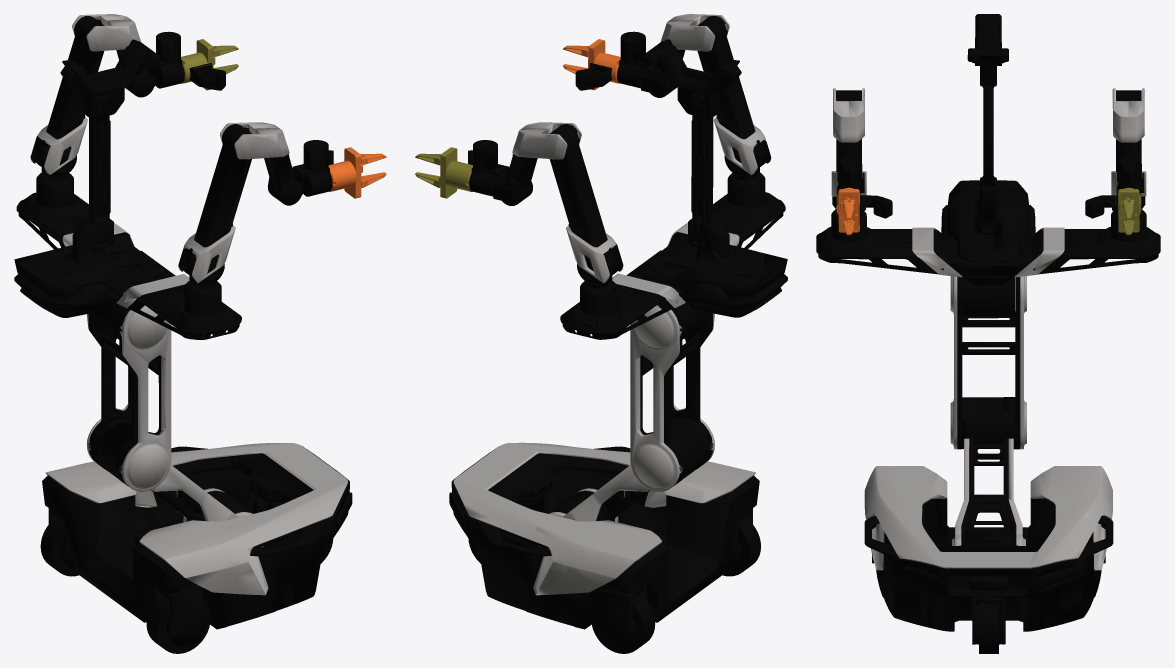
File: r1lite-gripper.glb
3 views of the same model, side by side, from view 1: azimuth 30°, elevation 25°; view 2: azimuth 150°, elevation 25°; view 3: azimuth 270°, elevation 25° (orthographic). The views are drawn at different scales.
Visible parts, largest first — view 1: R1Lite-Gripper.base_link.0.visual0.web, R1Lite-Gripper.torso_link3.0.visual0.web, R1Lite-Gripper.torso_link2.0.visual0.web, R1Lite-Gripper.right_arm_link2.0.visual0.web, R1Lite-Gripper.left_arm_link2.0.visual0.web, R1Lite-Gripper.torso_link1.0.visual0.web, R1Lite-Gripper.right_arm_link3.0.visual0.web, R1Lite-Gripper.left_arm_link3.0.visual0.web, R1Lite-Gripper.steer_motor_link3.0.visual0.web, R1Lite-Gripper.wheel_motor_link3.0.visual0.web, R1Lite-Gripper.right_gripper_link.0.visual0.web, R1Lite-Gripper.right_arm_base_link.0.visual0.web (+8 smaller); view 2: R1Lite-Gripper.base_link.0.visual0.web, R1Lite-Gripper.torso_link3.0.visual0.web, R1Lite-Gripper.torso_link2.0.visual0.web, R1Lite-Gripper.left_arm_link2.0.visual0.web, R1Lite-Gripper.right_arm_link2.0.visual0.web, R1Lite-Gripper.torso_link1.0.visual0.web, R1Lite-Gripper.left_arm_link3.0.visual0.web, R1Lite-Gripper.right_arm_link3.0.visual0.web, R1Lite-Gripper.steer_motor_link2.0.visual0.web, R1Lite-Gripper.wheel_motor_link2.0.visual0.web, R1Lite-Gripper.left_arm_link4.0.visual0.web, R1Lite-Gripper.right_arm_link4.0.visual0.web (+8 smaller); view 3: R1Lite-Gripper.base_link.0.visual0.web, R1Lite-Gripper.torso_link3.0.visual0.web, R1Lite-Gripper.torso_link1.0.visual0.web, R1Lite-Gripper.torso_link2.0.visual0.web, R1Lite-Gripper.left_arm_link3.0.visual0.web, R1Lite-Gripper.right_arm_link3.0.visual0.web, R1Lite-Gripper.wheel_motor_link1.0.visual0.web, R1Lite-Gripper.left_arm_link4.0.visual0.web, R1Lite-Gripper.right_arm_link4.0.visual0.web, R1Lite-Gripper.steer_motor_link1.0.visual0.web, R1Lite-Gripper.right_arm_link2.0.visual0.web, R1Lite-Gripper.left_arm_link2.0.visual0.web (+6 smaller).
Boxes of the visible parts, x1,y1,x2,y2 form: R1Lite-Gripper.base_link.0.visual0.web: (42, 443, 352, 629); R1Lite-Gripper.torso_link3.0.visual0.web: (14, 39, 241, 339); R1Lite-Gripper.torso_link2.0.visual0.web: (87, 305, 171, 491); R1Lite-Gripper.right_arm_link2.0.visual0.web: (178, 124, 251, 284); R1Lite-Gripper.left_arm_link2.0.visual0.web: (30, 16, 104, 176); R1Lite-Gripper.torso_link1.0.visual0.web: (91, 417, 263, 547); R1Lite-Gripper.right_arm_link3.0.visual0.web: (220, 122, 302, 205); R1Lite-Gripper.left_arm_link3.0.visual0.web: (72, 14, 154, 97); R1Lite-Gripper.steer_motor_link3.0.visual0.web: (154, 586, 205, 647); R1Lite-Gripper.wheel_motor_link3.0.visual0.web: (146, 594, 210, 653); R1Lite-Gripper.right_gripper_link.0.visual0.web: (328, 147, 361, 198); R1Lite-Gripper.right_arm_base_link.0.visual0.web: (180, 280, 222, 316); R1Lite-Gripper.base_link.0.visual0.web: (449, 442, 759, 629); R1Lite-Gripper.torso_link3.0.visual0.web: (560, 39, 787, 339); R1Lite-Gripper.torso_link2.0.visual0.web: (630, 305, 714, 491); R1Lite-Gripper.left_arm_link2.0.visual0.web: (549, 124, 623, 284); R1Lite-Gripper.right_arm_link2.0.visual0.web: (697, 15, 771, 176); R1Lite-Gripper.torso_link1.0.visual0.web: (538, 417, 710, 547); R1Lite-Gripper.left_arm_link3.0.visual0.web: (500, 122, 581, 205); R1Lite-Gripper.right_arm_link3.0.visual0.web: (648, 14, 729, 97); R1Lite-Gripper.steer_motor_link2.0.visual0.web: (596, 586, 647, 647); R1Lite-Gripper.wheel_motor_link2.0.visual0.web: (591, 594, 655, 653); R1Lite-Gripper.left_arm_link4.0.visual0.web: (473, 140, 515, 202); R1Lite-Gripper.right_arm_link4.0.visual0.web: (620, 31, 663, 94); R1Lite-Gripper.base_link.0.visual0.web: (864, 466, 1113, 631); R1Lite-Gripper.torso_link3.0.visual0.web: (816, 14, 1160, 316); R1Lite-Gripper.torso_link1.0.visual0.web: (952, 397, 1025, 545); R1Lite-Gripper.torso_link2.0.visual0.web: (950, 276, 1026, 449); R1Lite-Gripper.left_arm_link3.0.visual0.web: (1112, 88, 1144, 184); R1Lite-Gripper.right_arm_link3.0.visual0.web: (833, 88, 864, 184); R1Lite-Gripper.wheel_motor_link1.0.visual0.web: (979, 603, 998, 653); R1Lite-Gripper.left_arm_link4.0.visual0.web: (1117, 154, 1144, 192); R1Lite-Gripper.right_arm_link4.0.visual0.web: (837, 154, 864, 192); R1Lite-Gripper.steer_motor_link1.0.visual0.web: (972, 598, 1005, 644); R1Lite-Gripper.right_arm_link2.0.visual0.web: (831, 90, 866, 208); R1Lite-Gripper.left_arm_link2.0.visual0.web: (1111, 90, 1146, 209).
Size of the model in its own units: 0.7869 by 1.4 by 0.825.
28 materials, 26 textured.
